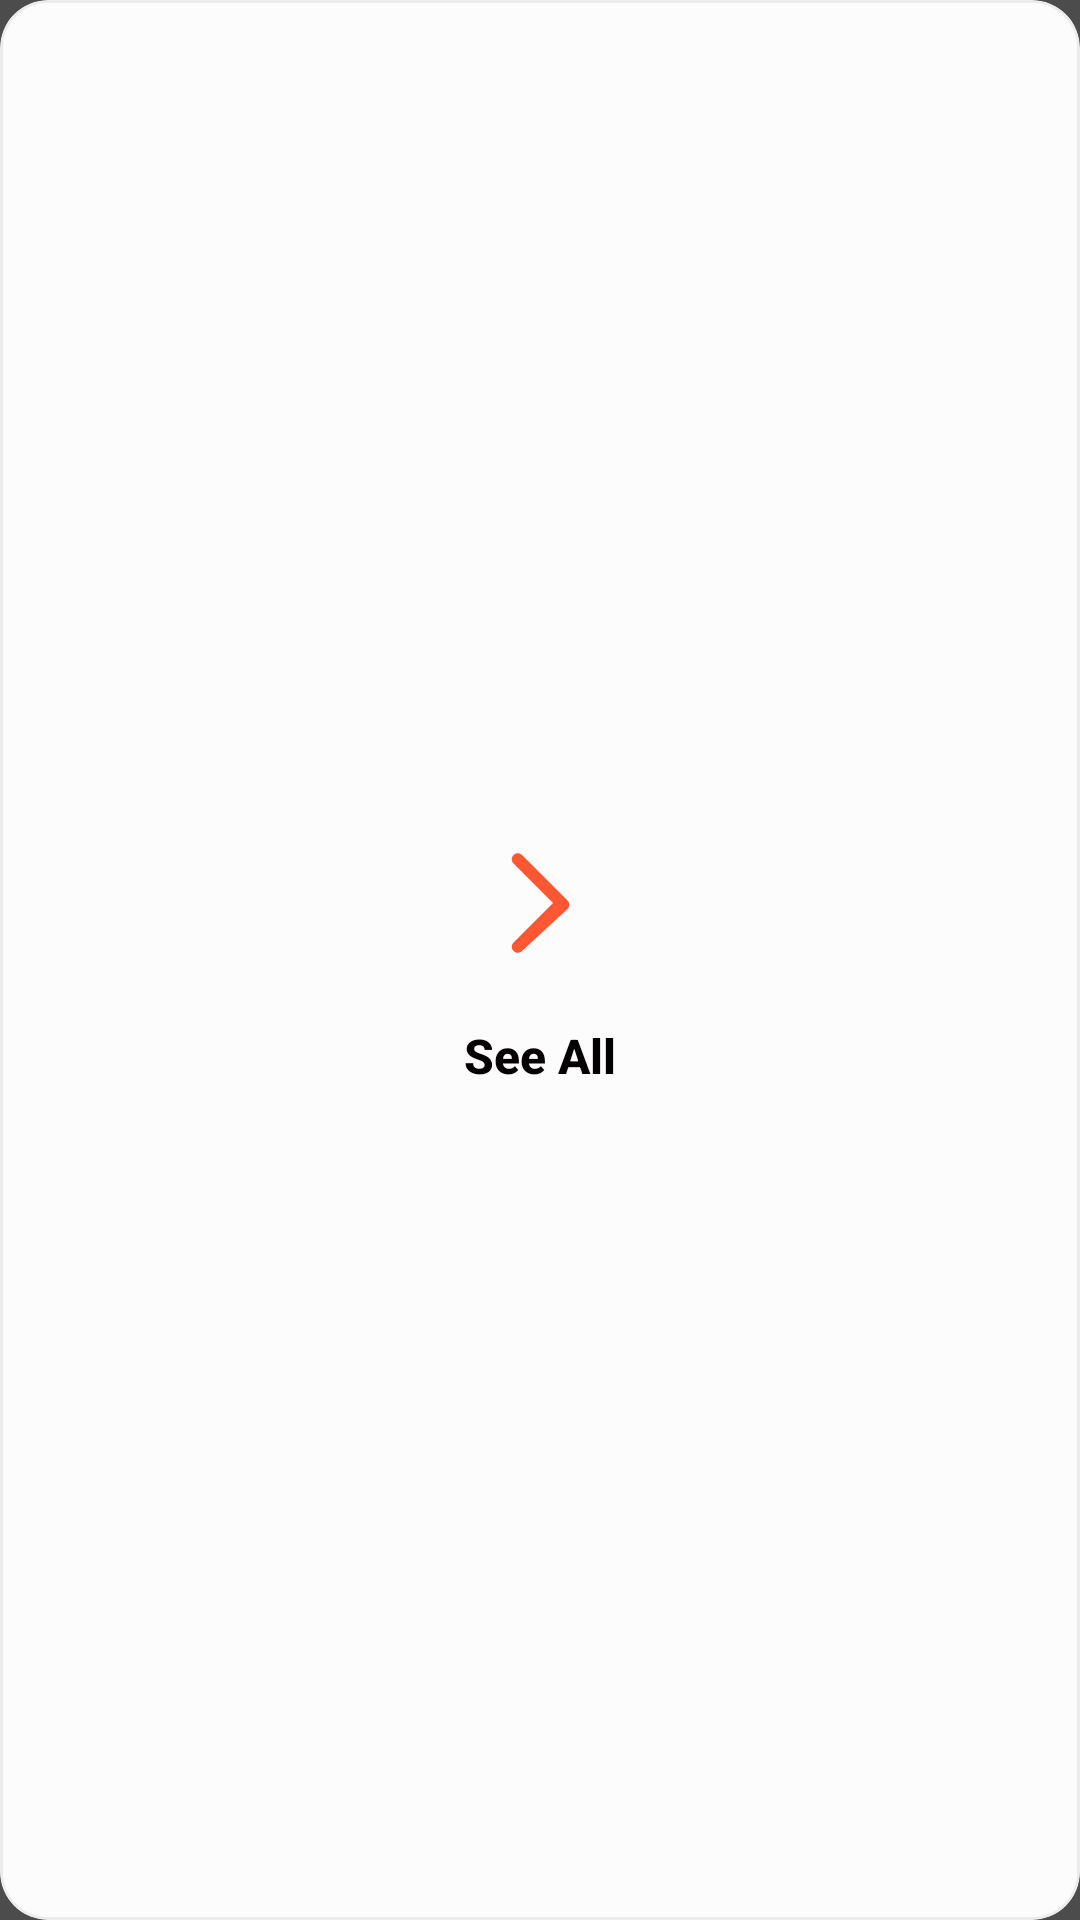

Icon click points for this 1080px×1920px phone screenshot, format (x,y):
chevron right: (540,903)
